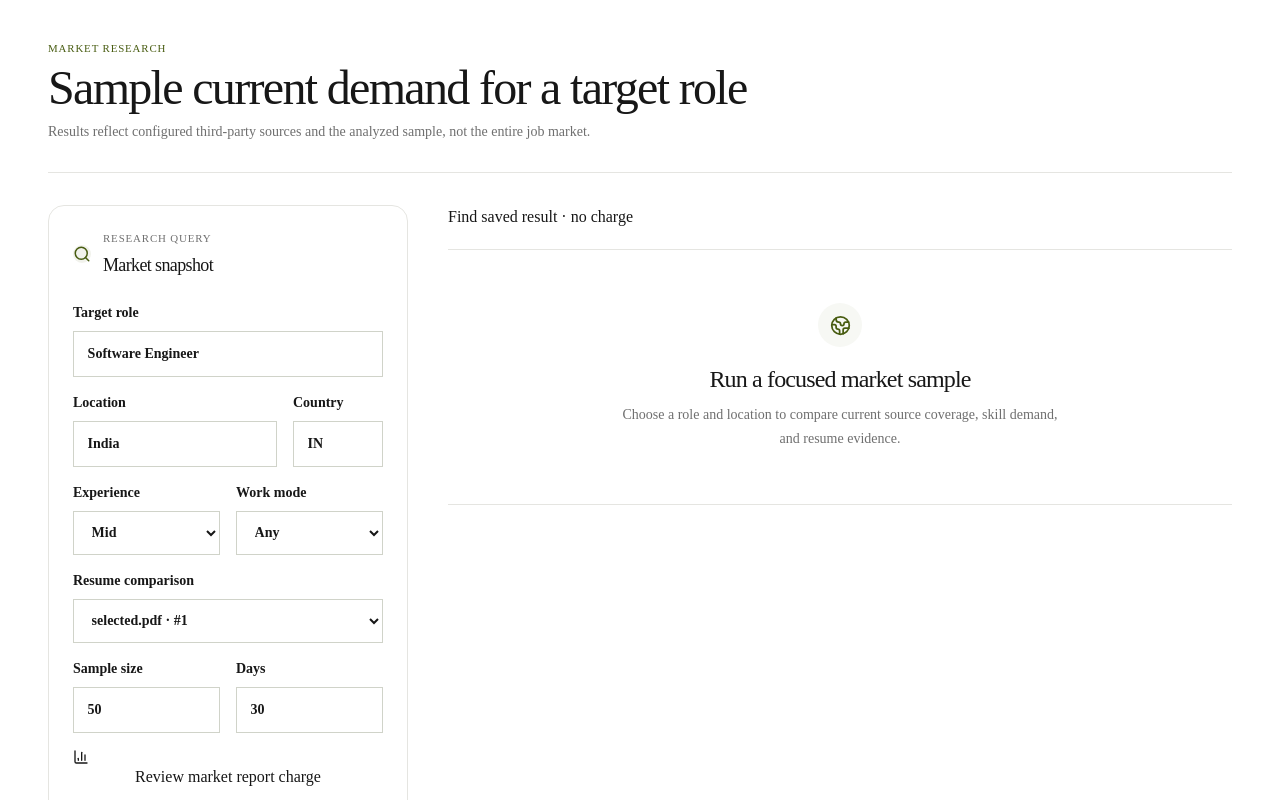
Test case: finds unchanged saved reports while new paid reports are unavailable without requesting a quote
Expected: the button "Review market report charge" is disabled, [73,749,383,789]
Click the button with aria-label "Find saved result for Market report · no charge".
click(540, 217)  # box [448,205,633,229]
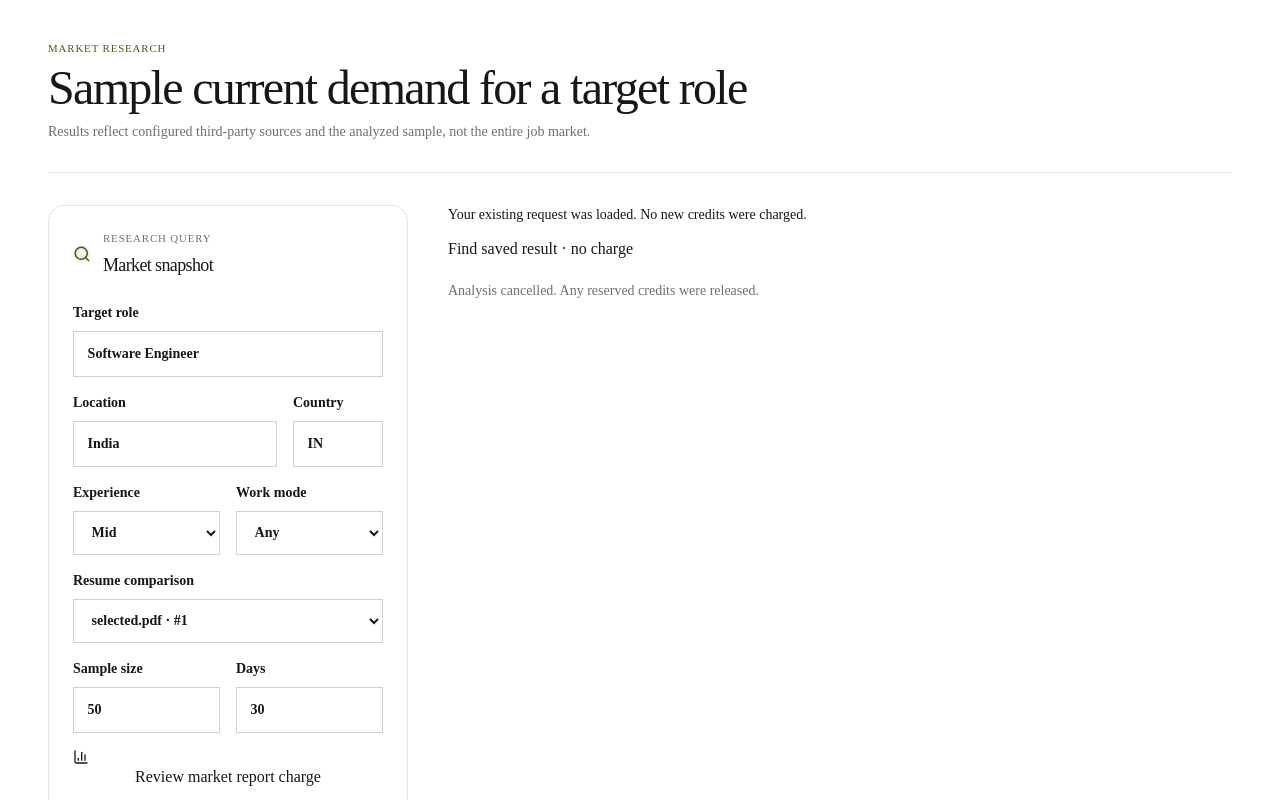
Expected: the text "Your existing request was loaded. No new credits were charged." is shown, [448,207,807,222]
